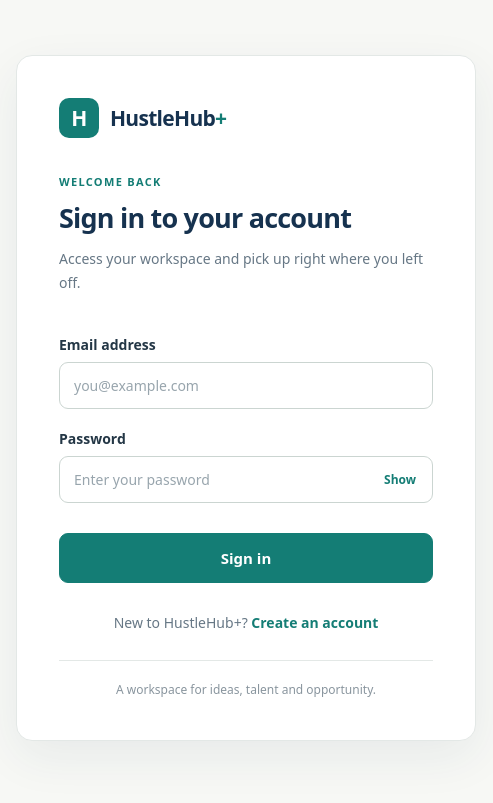
Test case: LoginPage › shows the message from the server when sign in fails
Step 1. Type "freya@example.com" into the field labelled "Email address" → (246, 385), box [59,362,433,409]
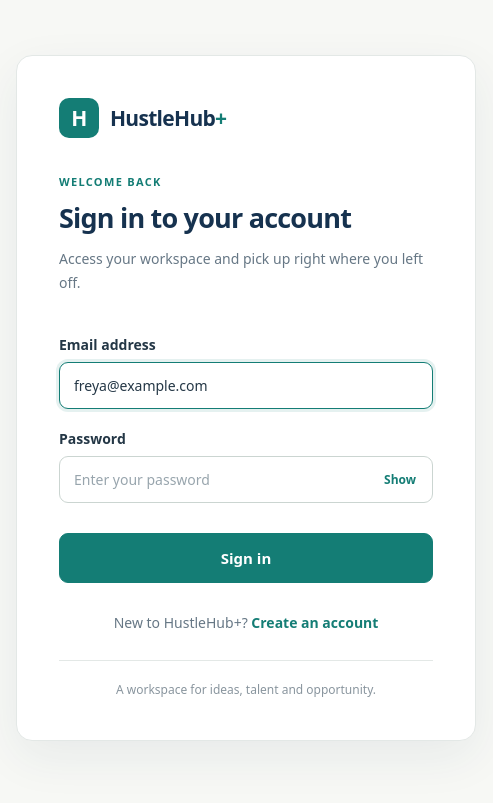
Step 2. Type "Hustle#2026pass" into the password field labelled "Password" → (246, 479), box [59,456,433,503]
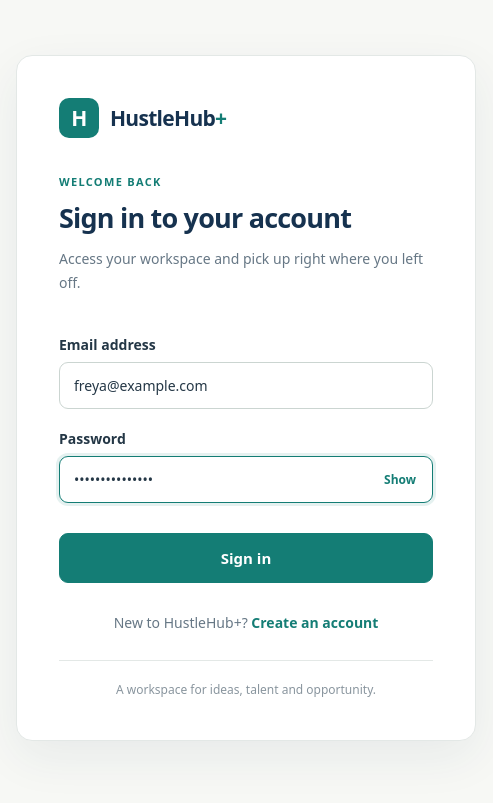
Step 3. Click the button "Sign in" → (246, 558), box [59,533,433,583]
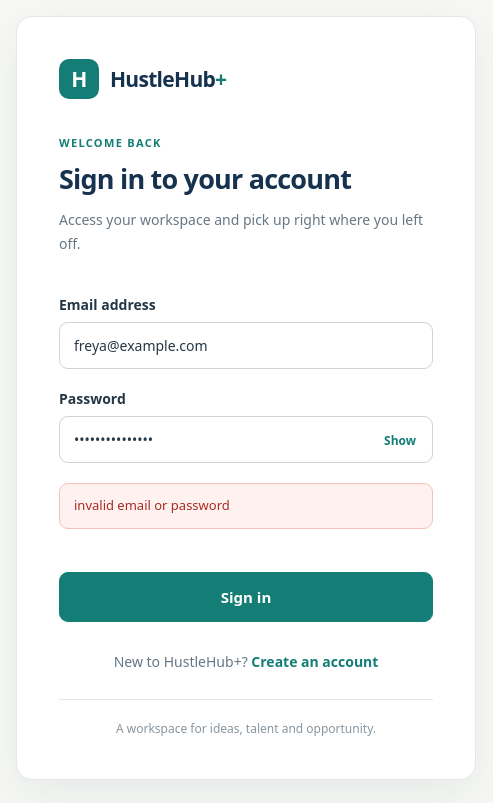
Expected: the message reads "invalid email or password", [74,496,230,514]
